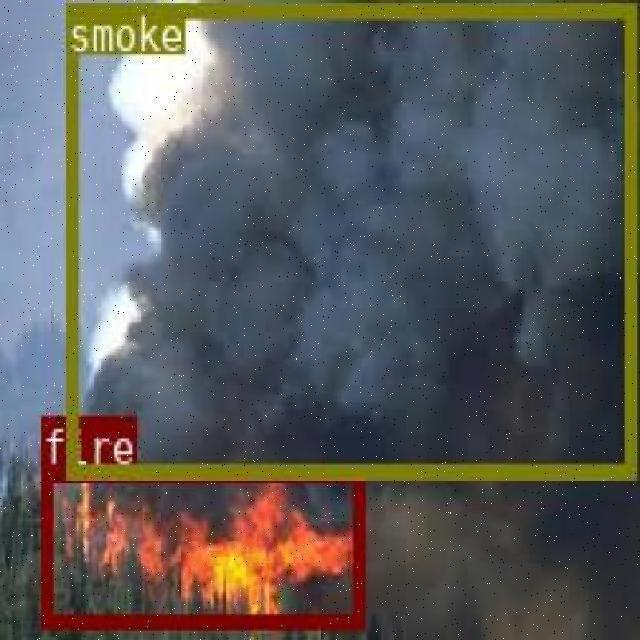Smoke: (63, 1, 634, 477)
